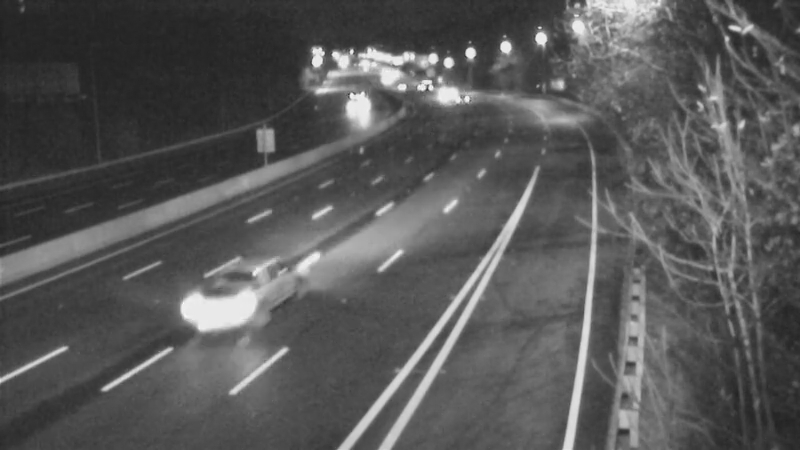vehicle: (184, 257, 264, 337), (400, 60, 450, 110), (378, 65, 428, 115), (422, 67, 472, 117), (436, 71, 486, 121), (323, 84, 373, 134)
